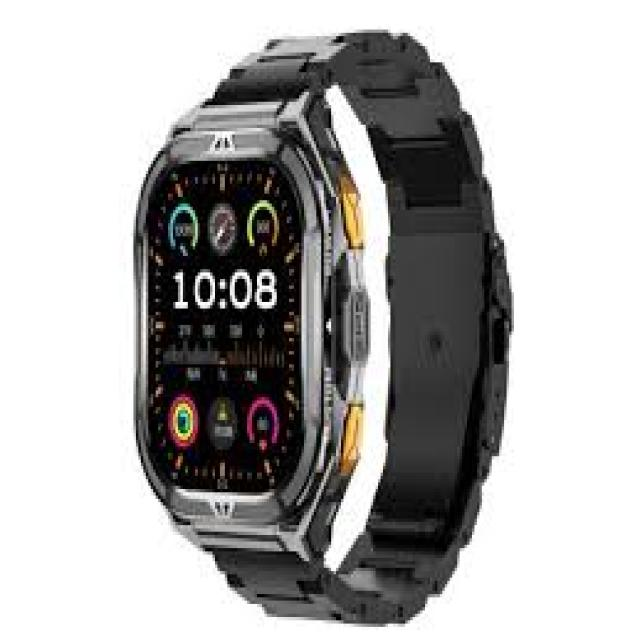objects: (136, 30, 512, 620)
